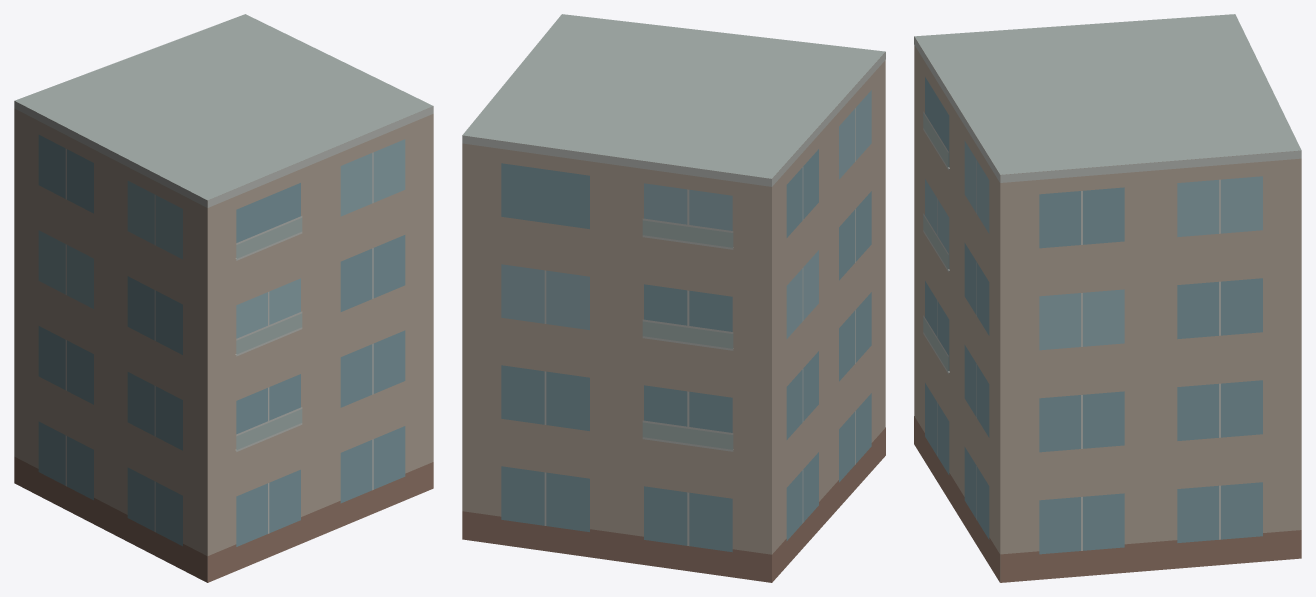
The model's file is survey-upis-32879030.glb.
3 views of the same model, side by side, from view 1: azimuth 30°, elevation 25°; view 2: azimuth 150°, elevation 25°; view 3: azimuth 270°, elevation 25° (orthographic). The views are drawn at different scales.
Parts seen in each view (by area): view 1: survey-upis-32879030.tmp; view 2: survey-upis-32879030.tmp; view 3: survey-upis-32879030.tmp.
Boxes of the visible parts, <box> form: survey-upis-32879030.tmp: <box>14,14,433,582</box>; survey-upis-32879030.tmp: <box>462,14,885,582</box>; survey-upis-32879030.tmp: <box>914,14,1301,582</box>.
Bounding box in the file's own units: 10.33 × 12.2 × 10.51.
